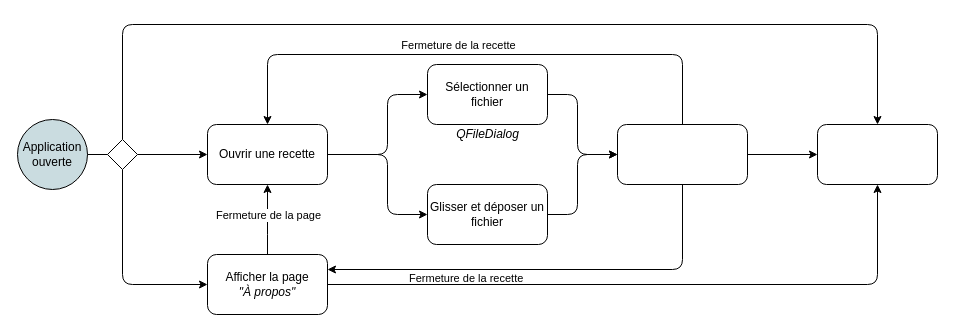
This 955x332 diagram has some shape labels left out. Each missing label, with the centre of its shape:
Interagir avec l'affichage de la recette: pixel 682 154
Quitter l'application: pixel 877 154
